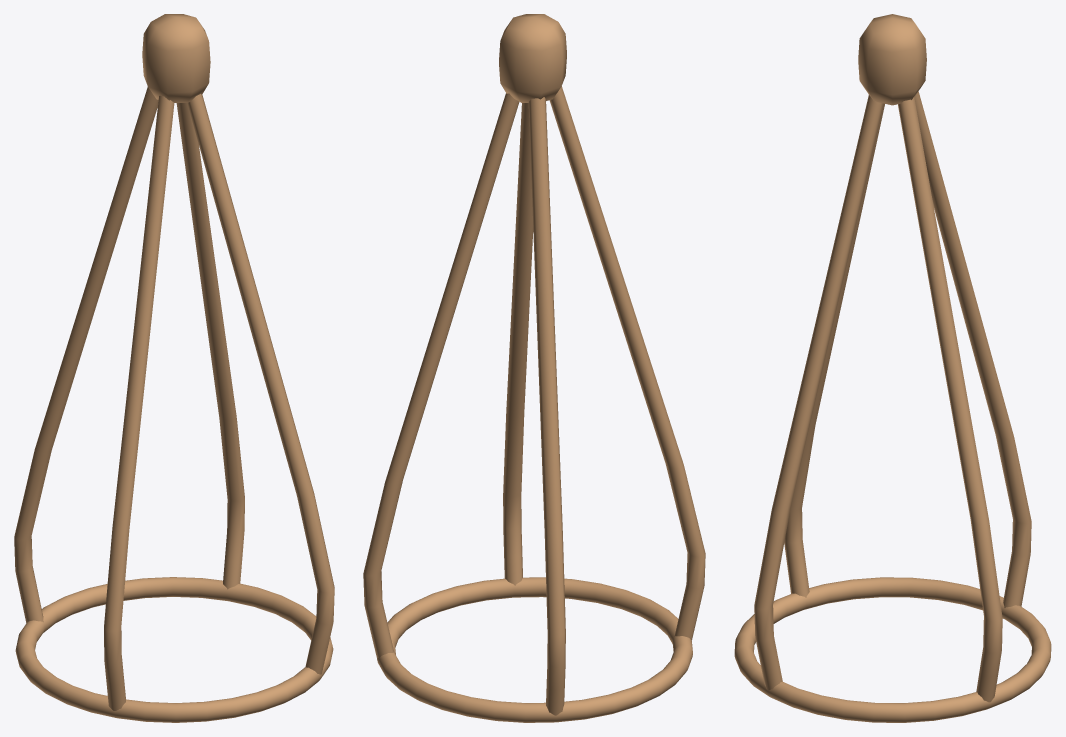
The model's file is SM_plant_hanger.glb.
3 renders of one model, left to right at view 1: azimuth 30°, elevation 25°; view 2: azimuth 150°, elevation 25°; view 3: azimuth 270°, elevation 25°, orthographic.
Visible parts, largest first — view 1: SM_plant_hanger; view 2: SM_plant_hanger; view 3: SM_plant_hanger.
Part boxes in pixels (x1,y1,x2,y2): SM_plant_hanger: [14, 14, 334, 722]; SM_plant_hanger: [363, 14, 705, 722]; SM_plant_hanger: [734, 14, 1051, 722].
Size of the model in its own units: 0.3684 by 0.8226 by 0.3684.
1 material, 1 textured.
